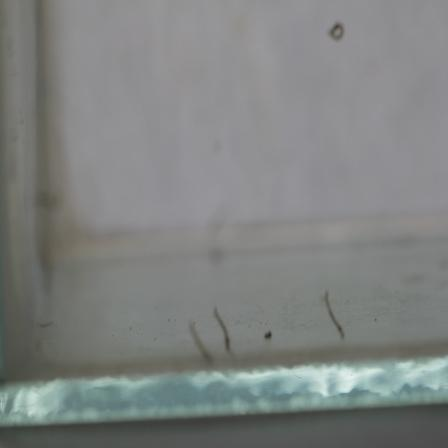Jentik-Nyamuk: (322, 288, 348, 339), (211, 308, 234, 353), (324, 17, 346, 42)
